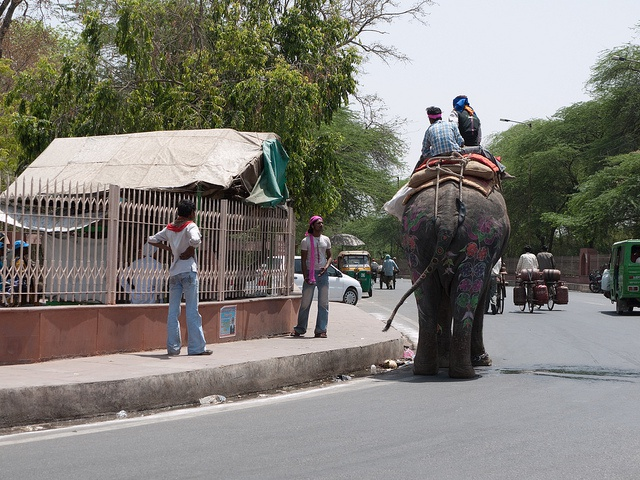non-vehicle: (492, 273, 507, 314), (536, 280, 556, 309), (522, 281, 538, 311)
